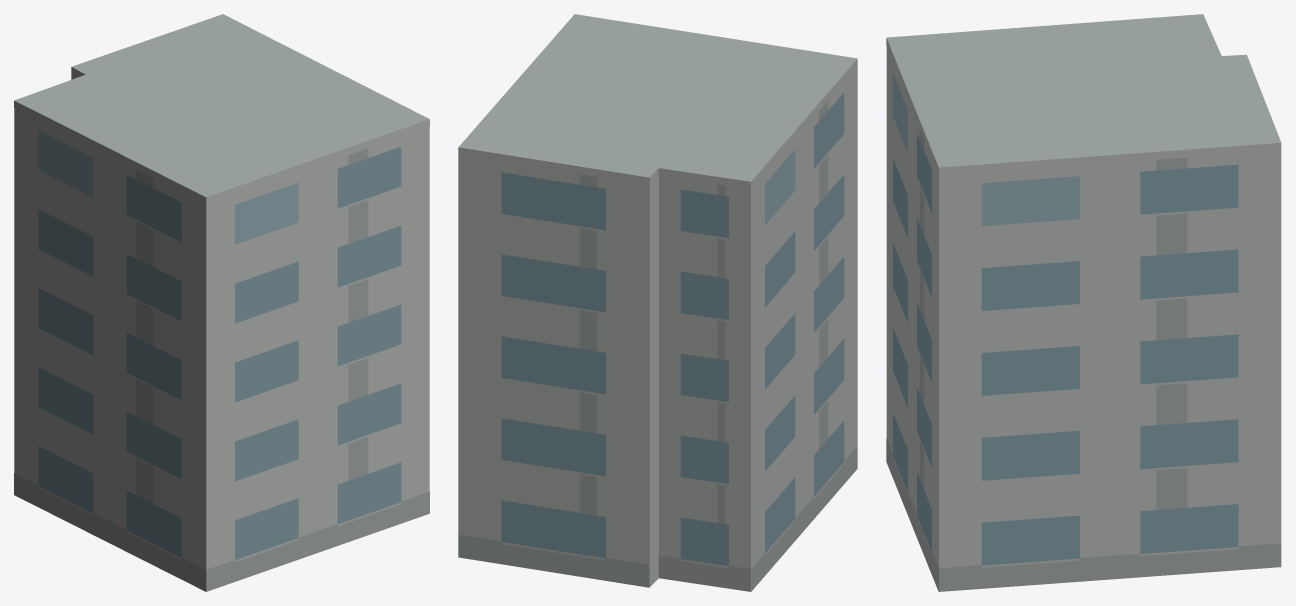
The model's file is survey-upis-32704511.glb.
3 views of the same model, side by side, from view 1: azimuth 30°, elevation 25°; view 2: azimuth 150°, elevation 25°; view 3: azimuth 270°, elevation 25° (orthographic). The views are drawn at different scales.
Parts seen in each view (by area): view 1: survey-upis-32704511.tmp; view 2: survey-upis-32704511.tmp; view 3: survey-upis-32704511.tmp.
Part boxes in pixels (bbox=[...]): survey-upis-32704511.tmp: bbox=[14, 14, 429, 591]; survey-upis-32704511.tmp: bbox=[458, 14, 857, 591]; survey-upis-32704511.tmp: bbox=[886, 14, 1281, 591].
Size of the model in its own units: 9.99 by 12.85 by 10.85.
